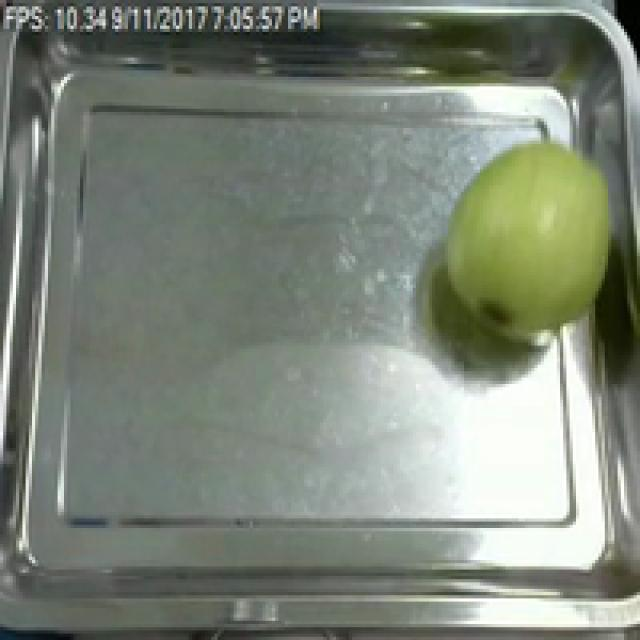Fruit: (426, 122, 634, 352)
